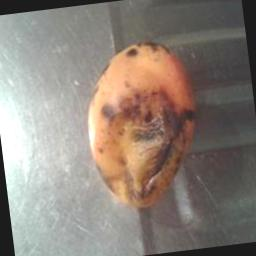Mango Rotten: (72, 24, 214, 222)
